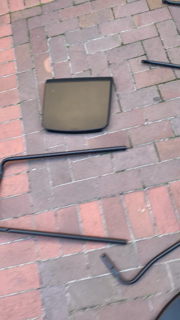Seat: (40, 76, 115, 136)
